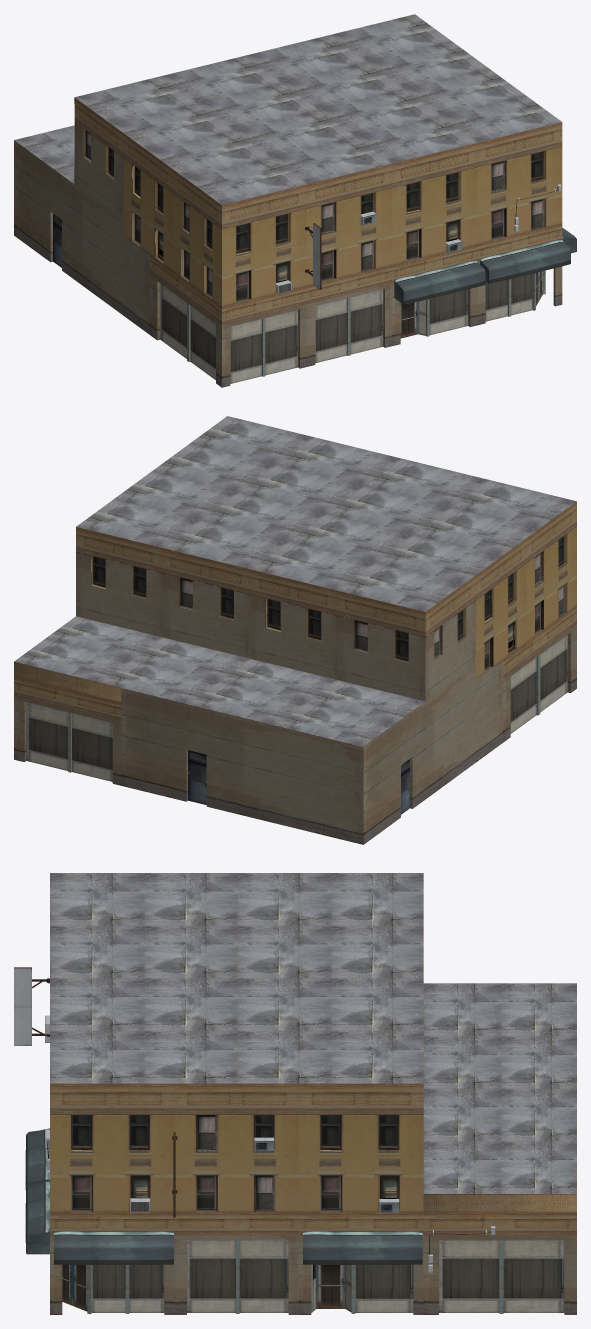
File: commercial.glb
3 renders of one model, top to bottom at view 1: azimuth 30°, elevation 25°; view 2: azimuth 150°, elevation 25°; view 3: azimuth 270°, elevation 25°, orthographic. The views are drawn at different scales.
Parts seen in each view (by area): view 1: commercial; view 2: commercial; view 3: commercial.
Part boxes in pixels (box(x1,y1,x2,y2)): commercial: box(14, 14, 576, 387); commercial: box(14, 416, 576, 844); commercial: box(14, 873, 576, 1314).
Size of the model in its own units: 21.73 by 10.39 by 22.91.
2 materials, 2 textured.
